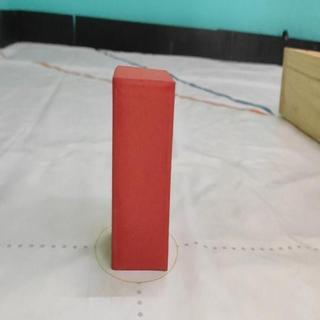redbox: (113, 63, 175, 274)
